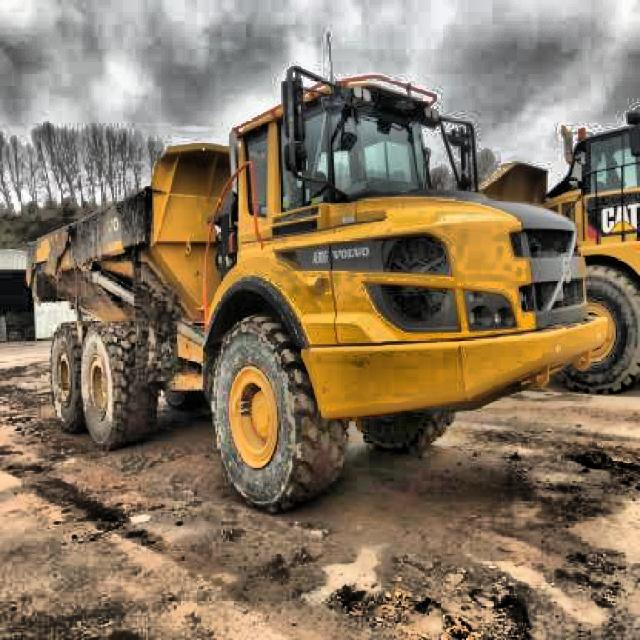dump_truck: (26, 68, 622, 517)
